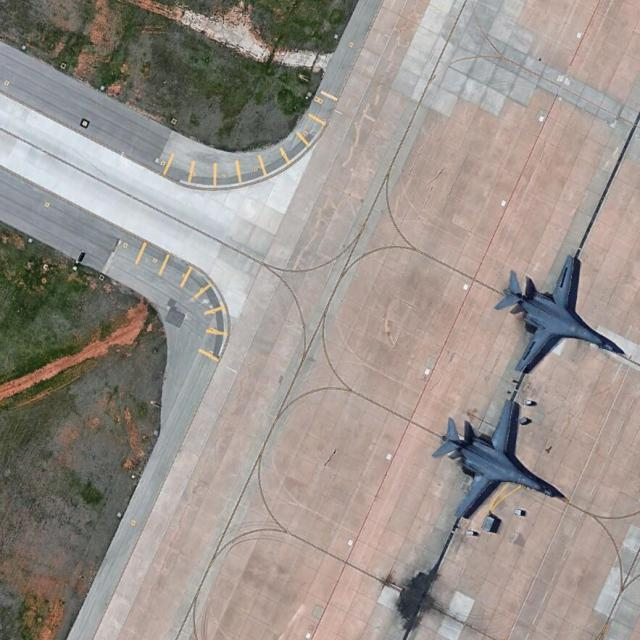fighter jet: (431, 402, 559, 531), (502, 250, 621, 385)
